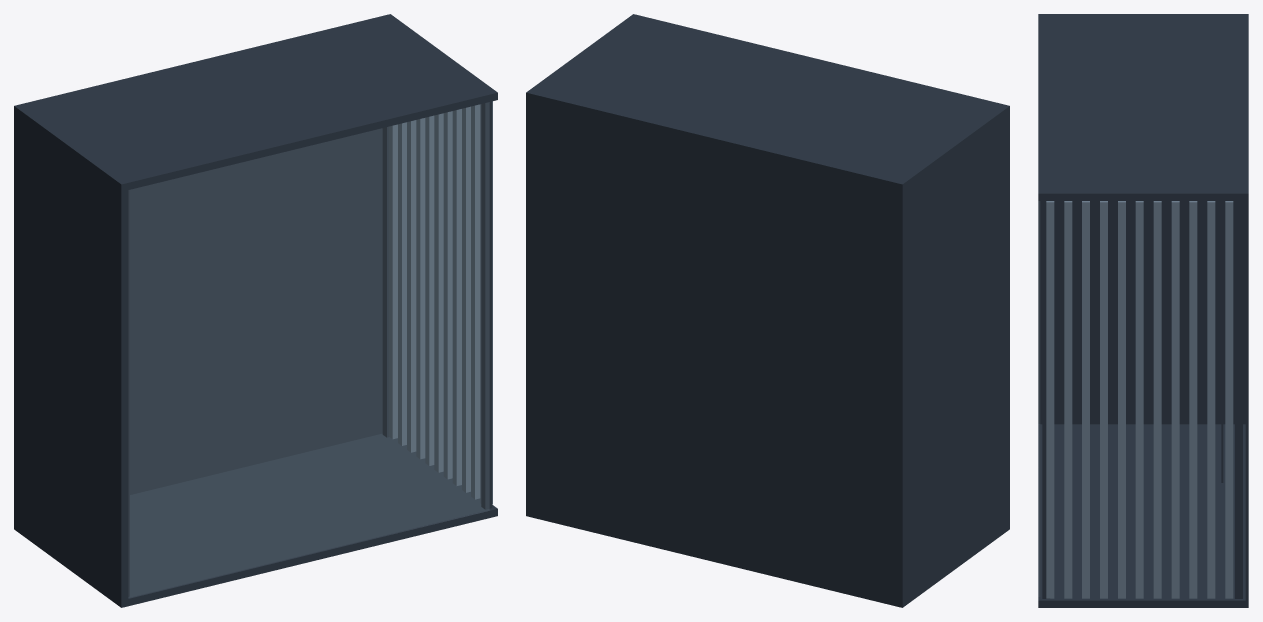
Rendered from retail-nzxt-h500.glb.
3 renders of one model, left to right at view 1: azimuth 30°, elevation 25°; view 2: azimuth 150°, elevation 25°; view 3: azimuth 270°, elevation 25°, orthographic. The views are drawn at different scales.
Parts seen in each view (by area): view 1: Side panel, Rear, Motherboard tray, Top, Illustrative front slat (×11), Base, Back panel, Frame rail (×3); view 2: Back panel, Rear, Top, Base; view 3: Top, Illustrative front slat (×11), Rear, Base, Frame rail (×2), Back panel, Motherboard tray, Side panel.
Boxes of the visible parts, x1,y1,x2,y2 form: Side panel: (128,102,489,597); Rear: (14,104,128,603); Motherboard tray: (130,143,321,426); Top: (14,15,497,191); Illustrative front slat (×11): (388,101,492,504); Base: (14,433,497,607); Back panel: (14,14,391,529); Frame rail (×3): (120,17,492,596); Back panel: (526,91,903,607); Rear: (896,104,1009,605); Top: (528,14,1009,190); Base: (903,522,1009,606); Top: (1038,14,1246,200); Illustrative front slat (×11): (1046,201,1233,598); Rear: (1038,14,1246,424); Base: (1038,424,1246,607); Frame rail (×2): (1042,188,1242,598); Back panel: (1245,14,1248,607); Motherboard tray: (1221,201,1223,482); Side panel: (1038,201,1039,424).
Size of the model in its own units: 0.428 by 0.46 by 0.2115.
